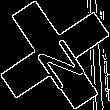N_NW: (24, 22, 86, 88)
